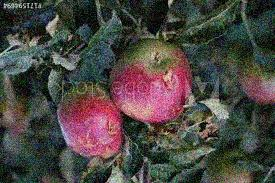rotten apple: (109, 38, 195, 123), (51, 85, 123, 162)
